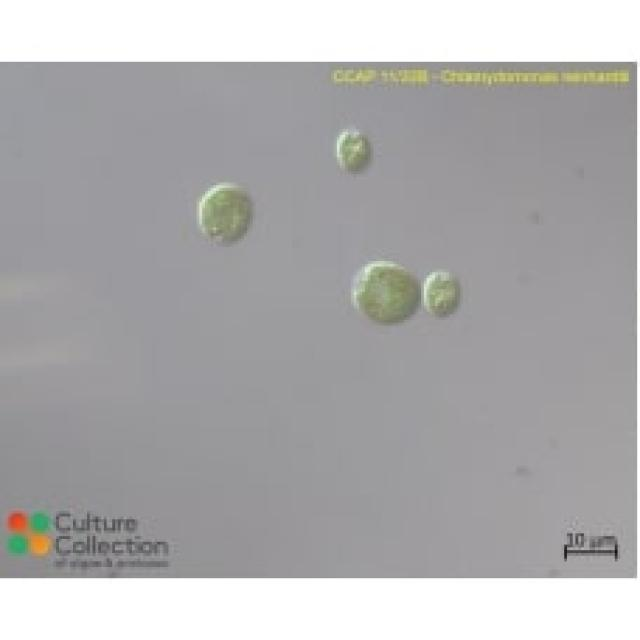Green Algae: (345, 261, 424, 328), (197, 182, 256, 250), (332, 121, 374, 174), (424, 264, 463, 320)
